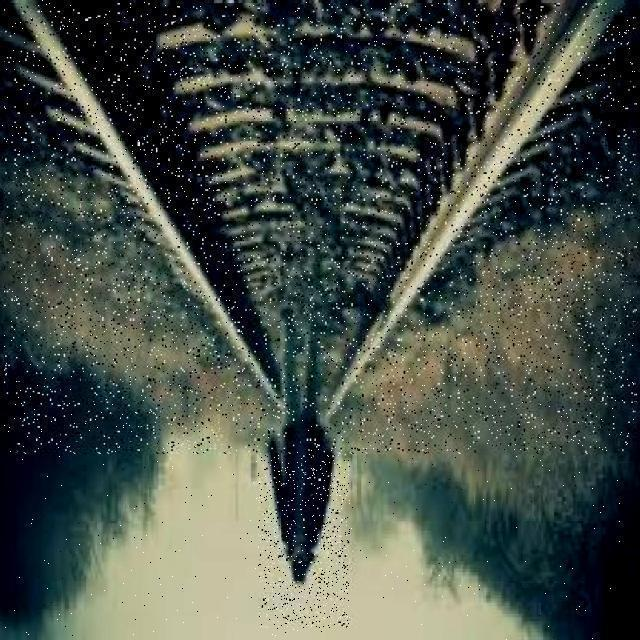rail: (6, 4, 636, 454)
